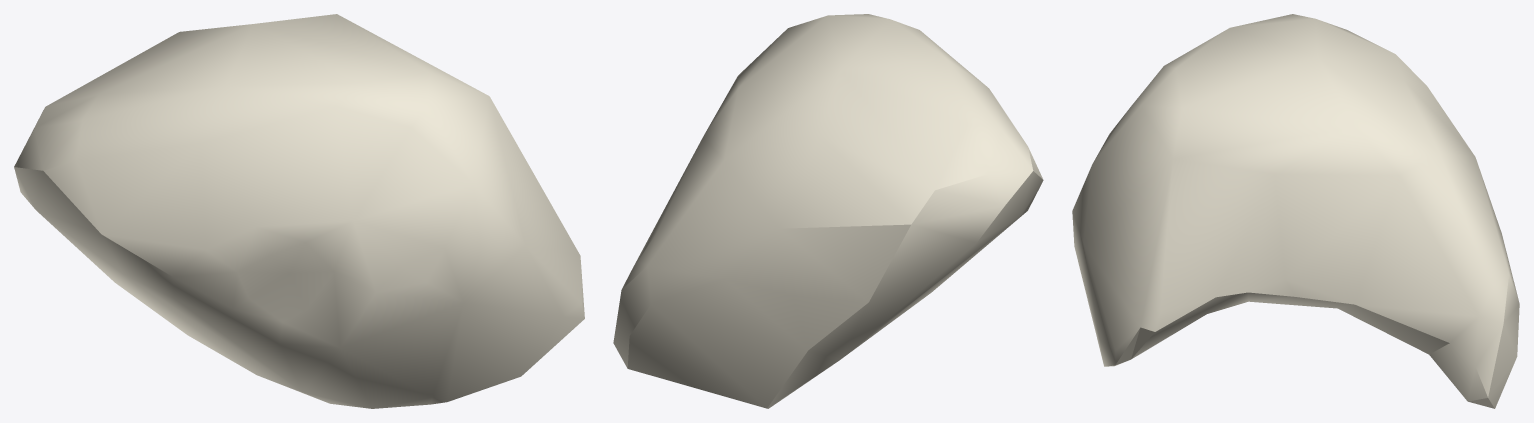
The model's file is fma24438_fj6379.glb.
3 renders of one model, left to right at view 1: azimuth 30°, elevation 25°; view 2: azimuth 150°, elevation 25°; view 3: azimuth 270°, elevation 25°, orthographic. The views are drawn at different scales.
Visible parts, largest first — view 1: FMA24438_FJ6379; view 2: FMA24438_FJ6379; view 3: FMA24438_FJ6379.
Part boxes in pixels (x1,y1,x2,y2): FMA24438_FJ6379: (14,14,584,408); FMA24438_FJ6379: (613,14,1043,408); FMA24438_FJ6379: (1072,14,1519,408).
Bounding box in the file's own units: 0.0162 × 0.0124 × 0.0164.
